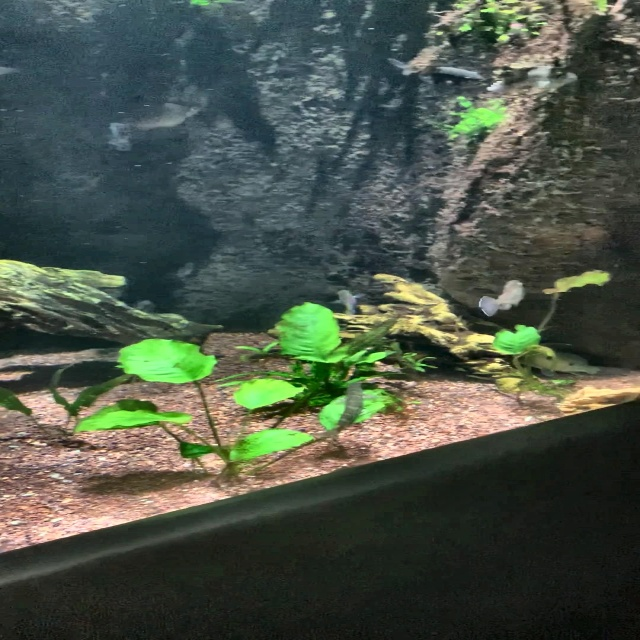fish: (385, 58, 489, 84), (95, 103, 200, 128), (524, 347, 600, 377), (480, 280, 534, 315), (332, 288, 364, 311)
